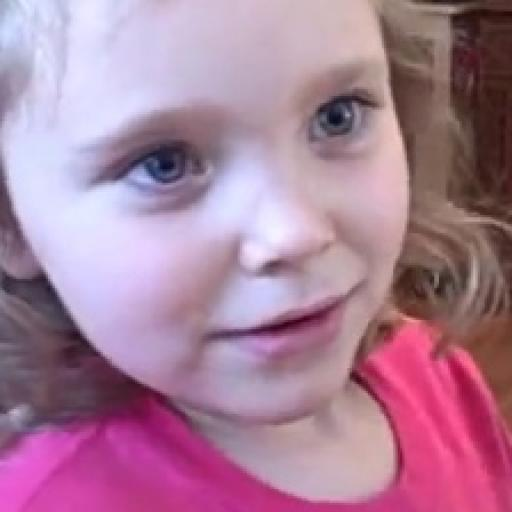Autism: (2, 18, 438, 448)
